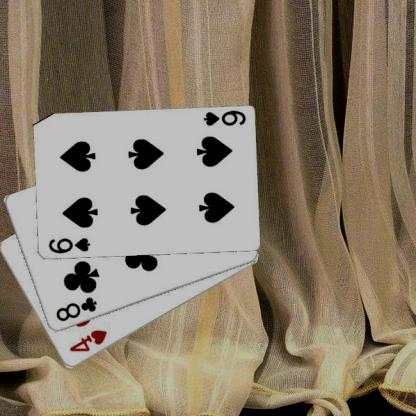4H: (67, 327, 108, 354)
6S: (46, 236, 92, 254), (201, 109, 246, 127)
8C: (53, 294, 98, 324)
